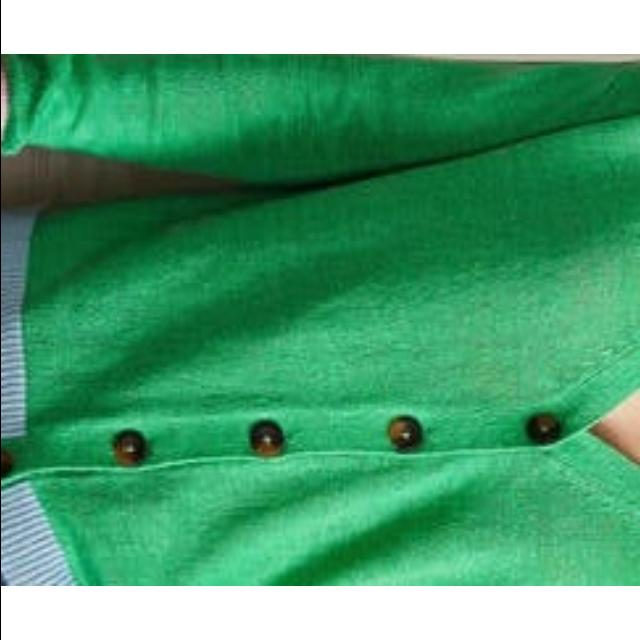cotton: (186, 68, 640, 586)
